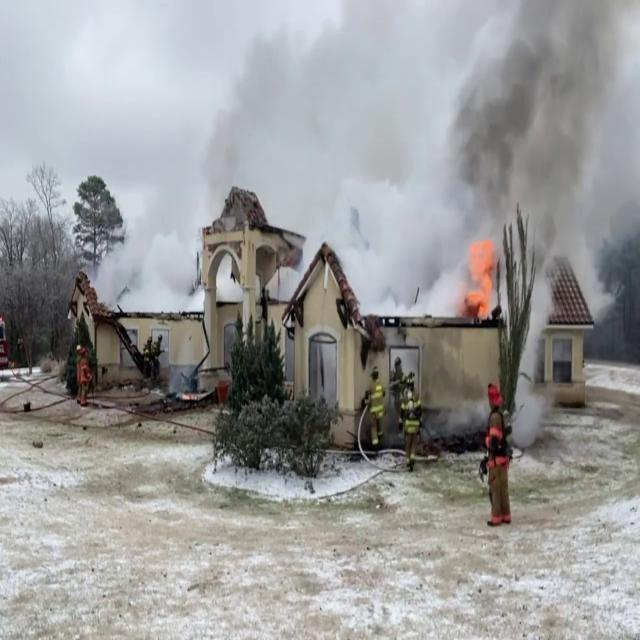Fire: (458, 234, 502, 320)
Smoke: (434, 0, 640, 272), (95, 175, 198, 314)
